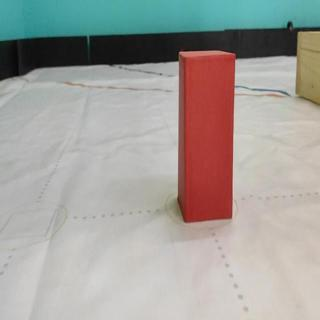redbox: (176, 50, 237, 222)
